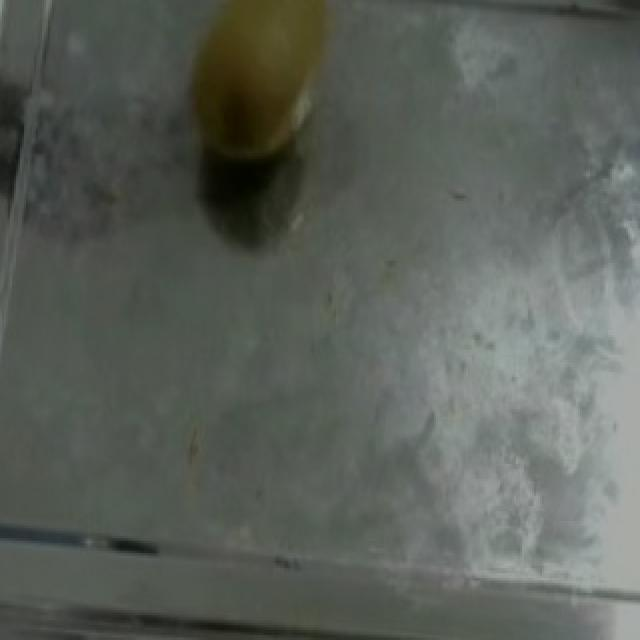Fruit: (158, 0, 362, 193)
